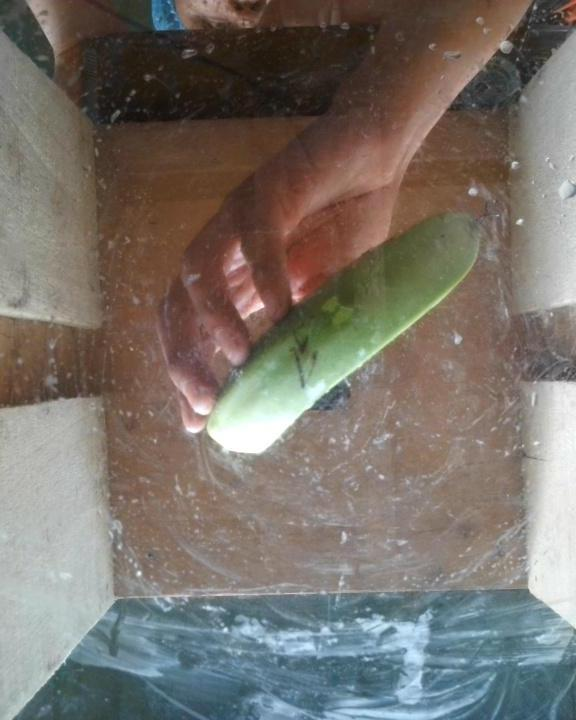CLASS B: (213, 213, 483, 464)
Class A: (278, 327, 329, 397)
